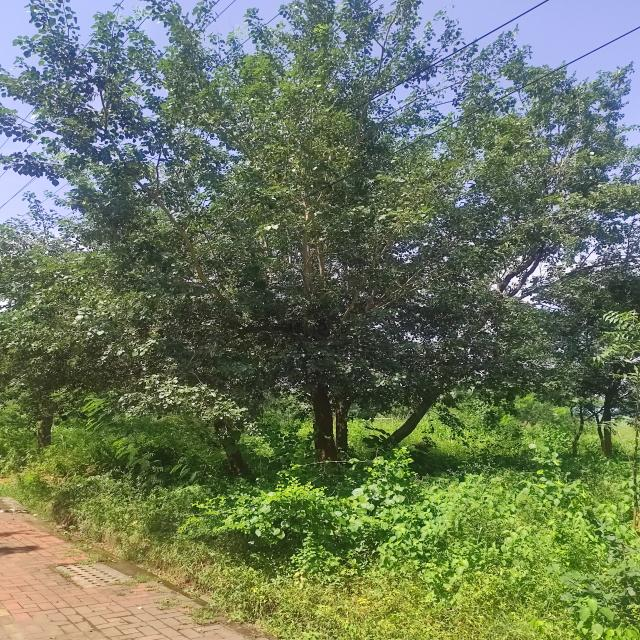Devakanchan tree: (14, 3, 640, 394)
